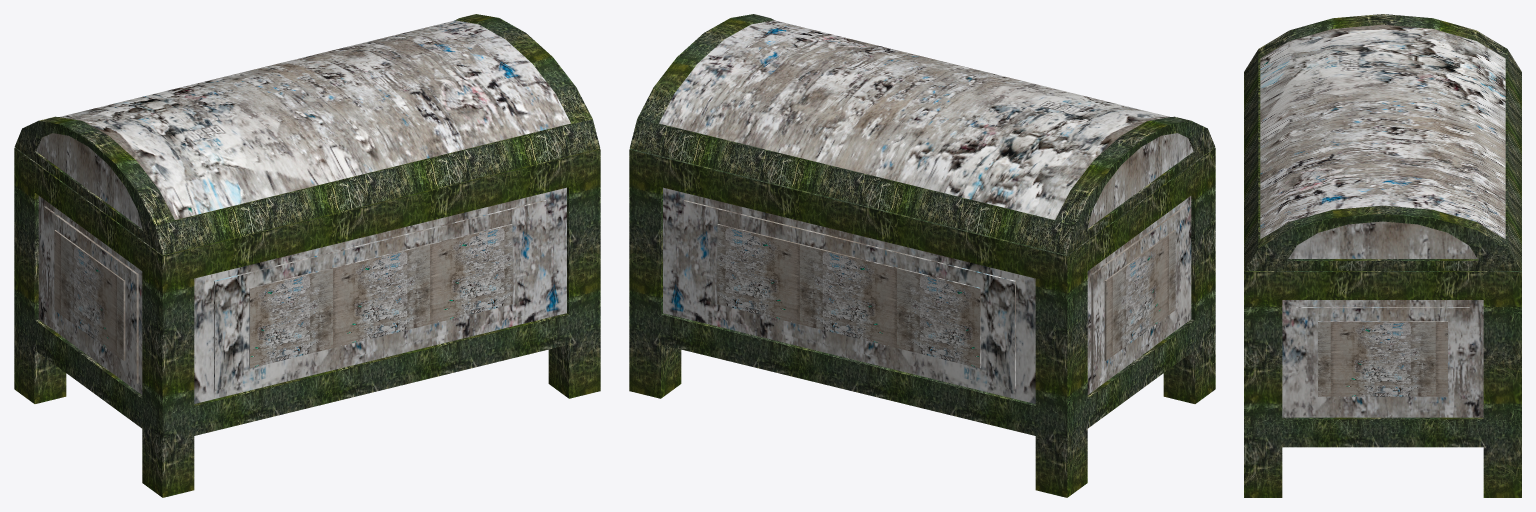
Rendered from CHEST.fbx.
The picture shows the model from 3 angles, left to right: view 1: azimuth 30°, elevation 25°; view 2: azimuth 150°, elevation 25°; view 3: azimuth 270°, elevation 25°; orthographic projection. The views are drawn at different scales.
Visible parts, largest first — view 1: chest; view 2: chest; view 3: chest.
Boxes of the visible parts, x1,y1,x2,y2 form: chest: [14, 14, 600, 497]; chest: [629, 14, 1215, 497]; chest: [1244, 14, 1521, 497].
Size of the model in its own units: 197 by 131 by 116.
2 materials, 2 textured.
